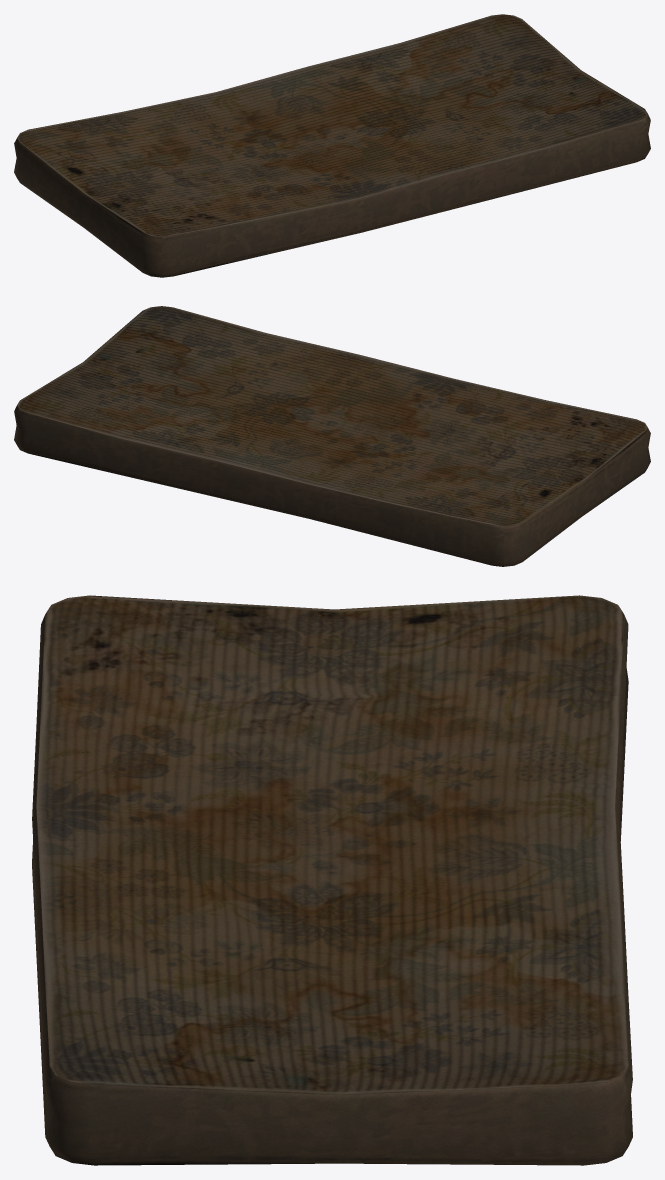
Rendered from old_mattress_mx_1.obj.
3 views of the same model, one above another, from view 1: azimuth 30°, elevation 25°; view 2: azimuth 150°, elevation 25°; view 3: azimuth 270°, elevation 25° (orthographic). The views are drawn at different scales.
Visible parts, largest first — view 1: old_mattress_mx_1; view 2: old_mattress_mx_1; view 3: old_mattress_mx_1.
Boxes of the visible parts, bbox=[...] form: old_mattress_mx_1: bbox=[14, 14, 650, 277]; old_mattress_mx_1: bbox=[14, 306, 650, 566]; old_mattress_mx_1: bbox=[32, 595, 632, 1165].
Bounding box in the file's own units: 2.62 × 0.2 × 1.35.
